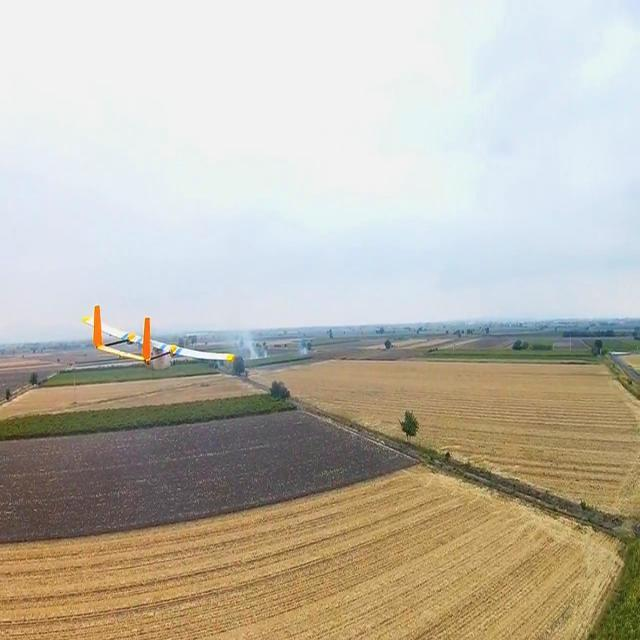iha: (74, 322, 243, 362)
